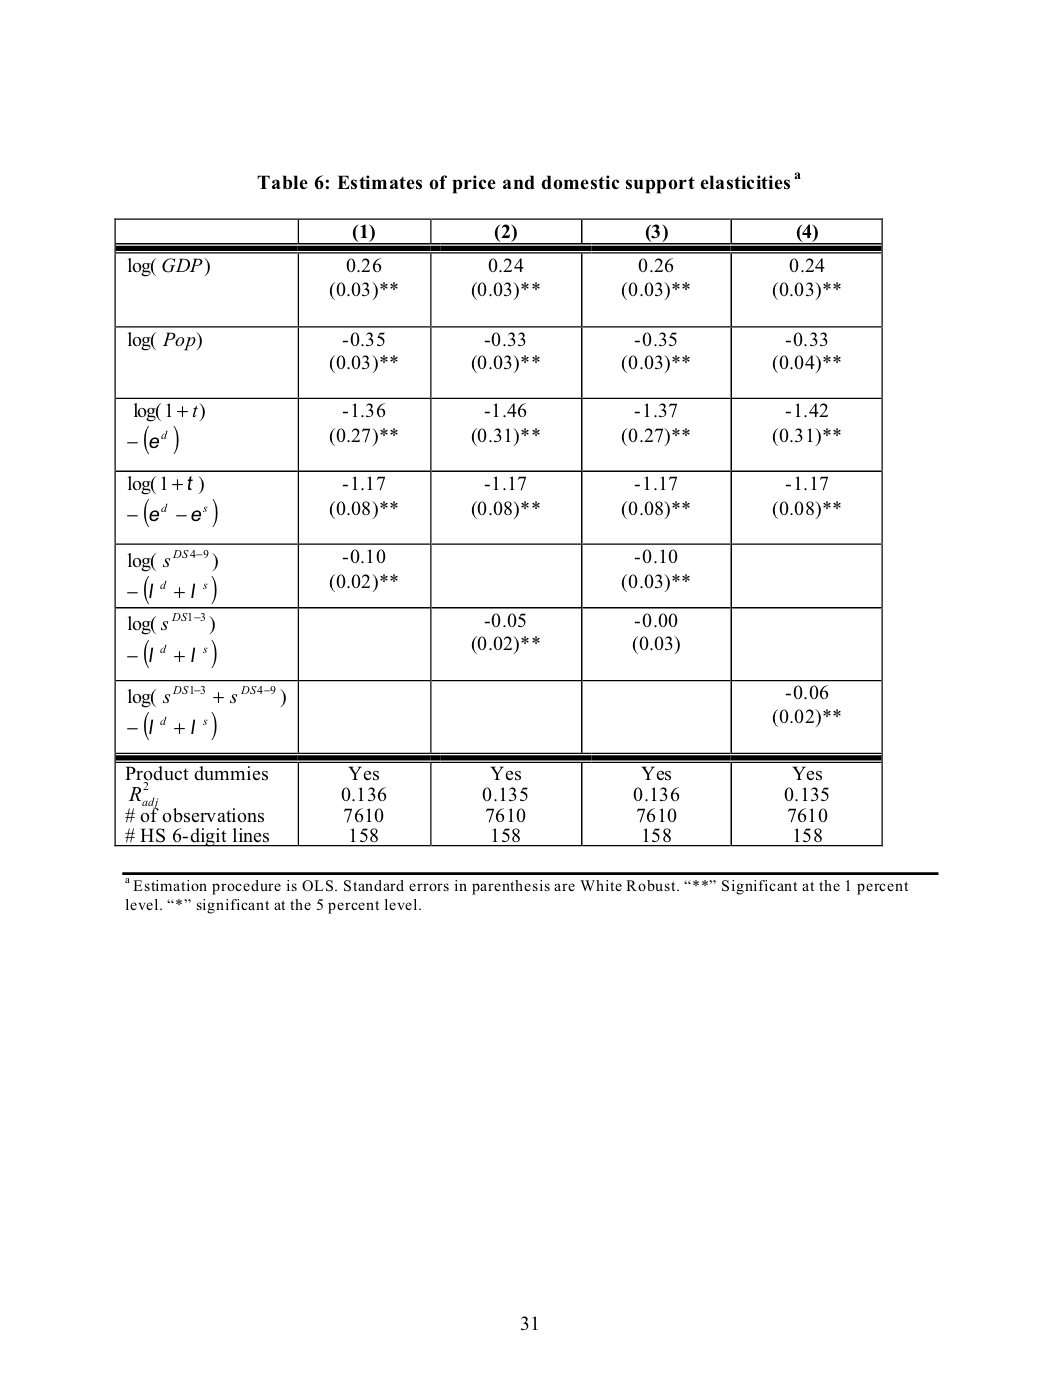Table: (114, 217, 882, 847)
figure: (121, 871, 938, 875)
